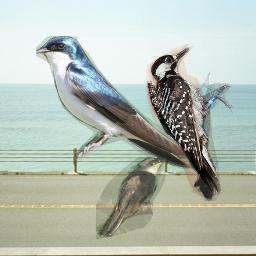Cuckoo: (96, 157, 166, 239)
Swallow: (36, 36, 196, 169)
Woodpecker: (140, 42, 242, 201)
